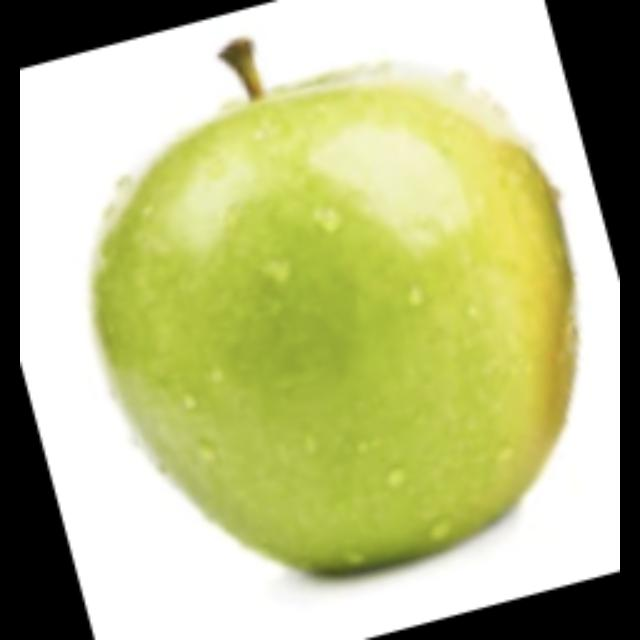Apel Segar: (79, 29, 582, 590)
